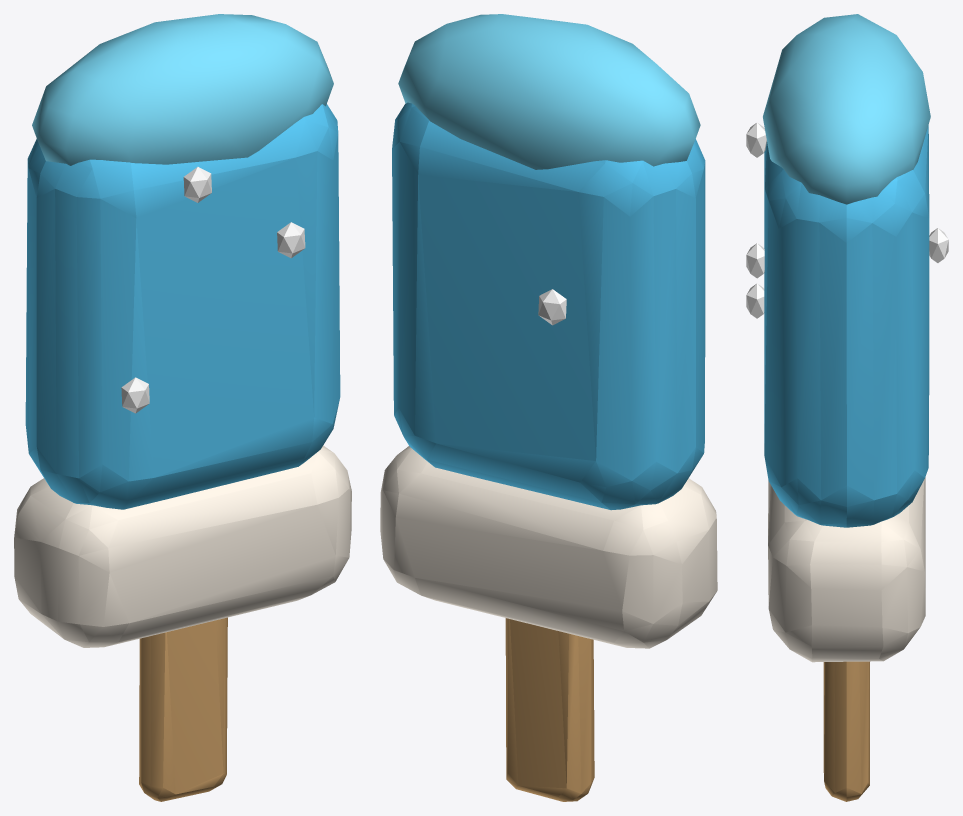
The model's file is freeze-pop.glb.
3 renders of one model, left to right at view 1: azimuth 30°, elevation 25°; view 2: azimuth 150°, elevation 25°; view 3: azimuth 270°, elevation 25°, orthographic. The views are drawn at different scales.
Visible parts, largest first — view 1: blue ice center, vanilla base, rounded top, wood stick, frost chip, frost chip.001, frost chip.002; view 2: blue ice center, vanilla base, rounded top, wood stick, frost chip.004; view 3: blue ice center, rounded top, vanilla base, wood stick, frost chip.002, frost chip.004, frost chip, frost chip.001.
Boxes of the visible parts, bbox=[...] form: blue ice center: bbox=[25, 104, 340, 509]; vanilla base: bbox=[14, 445, 351, 647]; rounded top: bbox=[32, 14, 333, 165]; wood stick: bbox=[139, 617, 227, 801]; frost chip: bbox=[121, 377, 149, 413]; frost chip.001: bbox=[277, 222, 305, 258]; frost chip.002: bbox=[183, 167, 211, 202]; blue ice center: bbox=[392, 102, 705, 510]; vanilla base: bbox=[380, 446, 717, 648]; rounded top: bbox=[398, 14, 700, 169]; wood stick: bbox=[505, 618, 594, 801]; frost chip.004: bbox=[538, 289, 566, 325]; blue ice center: bbox=[764, 125, 929, 527]; rounded top: bbox=[763, 14, 930, 204]; vanilla base: bbox=[768, 477, 925, 662]; wood stick: bbox=[823, 661, 869, 801]; frost chip.002: bbox=[746, 122, 766, 157]; frost chip.004: bbox=[929, 228, 948, 262]; frost chip: bbox=[746, 283, 764, 318]; frost chip.001: bbox=[746, 243, 764, 278].
Bounding box in the file's own units: 0.2426 × 0.589 × 0.1443.
